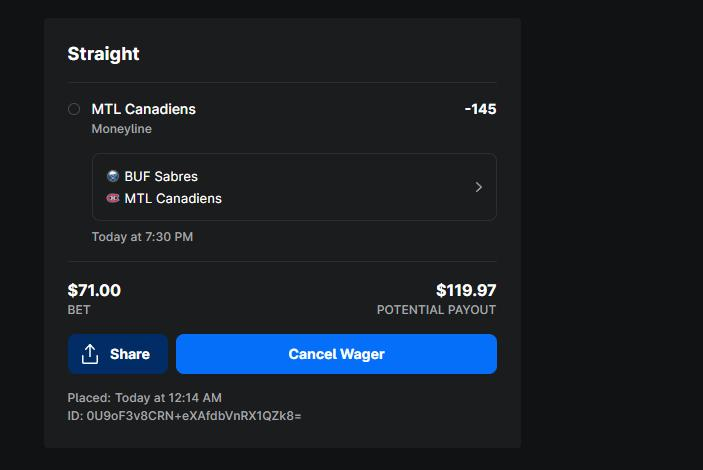game: (123, 167, 224, 207)
odds: (464, 100, 500, 118)
payout: (434, 279, 499, 301)
wager: (66, 279, 124, 302)
